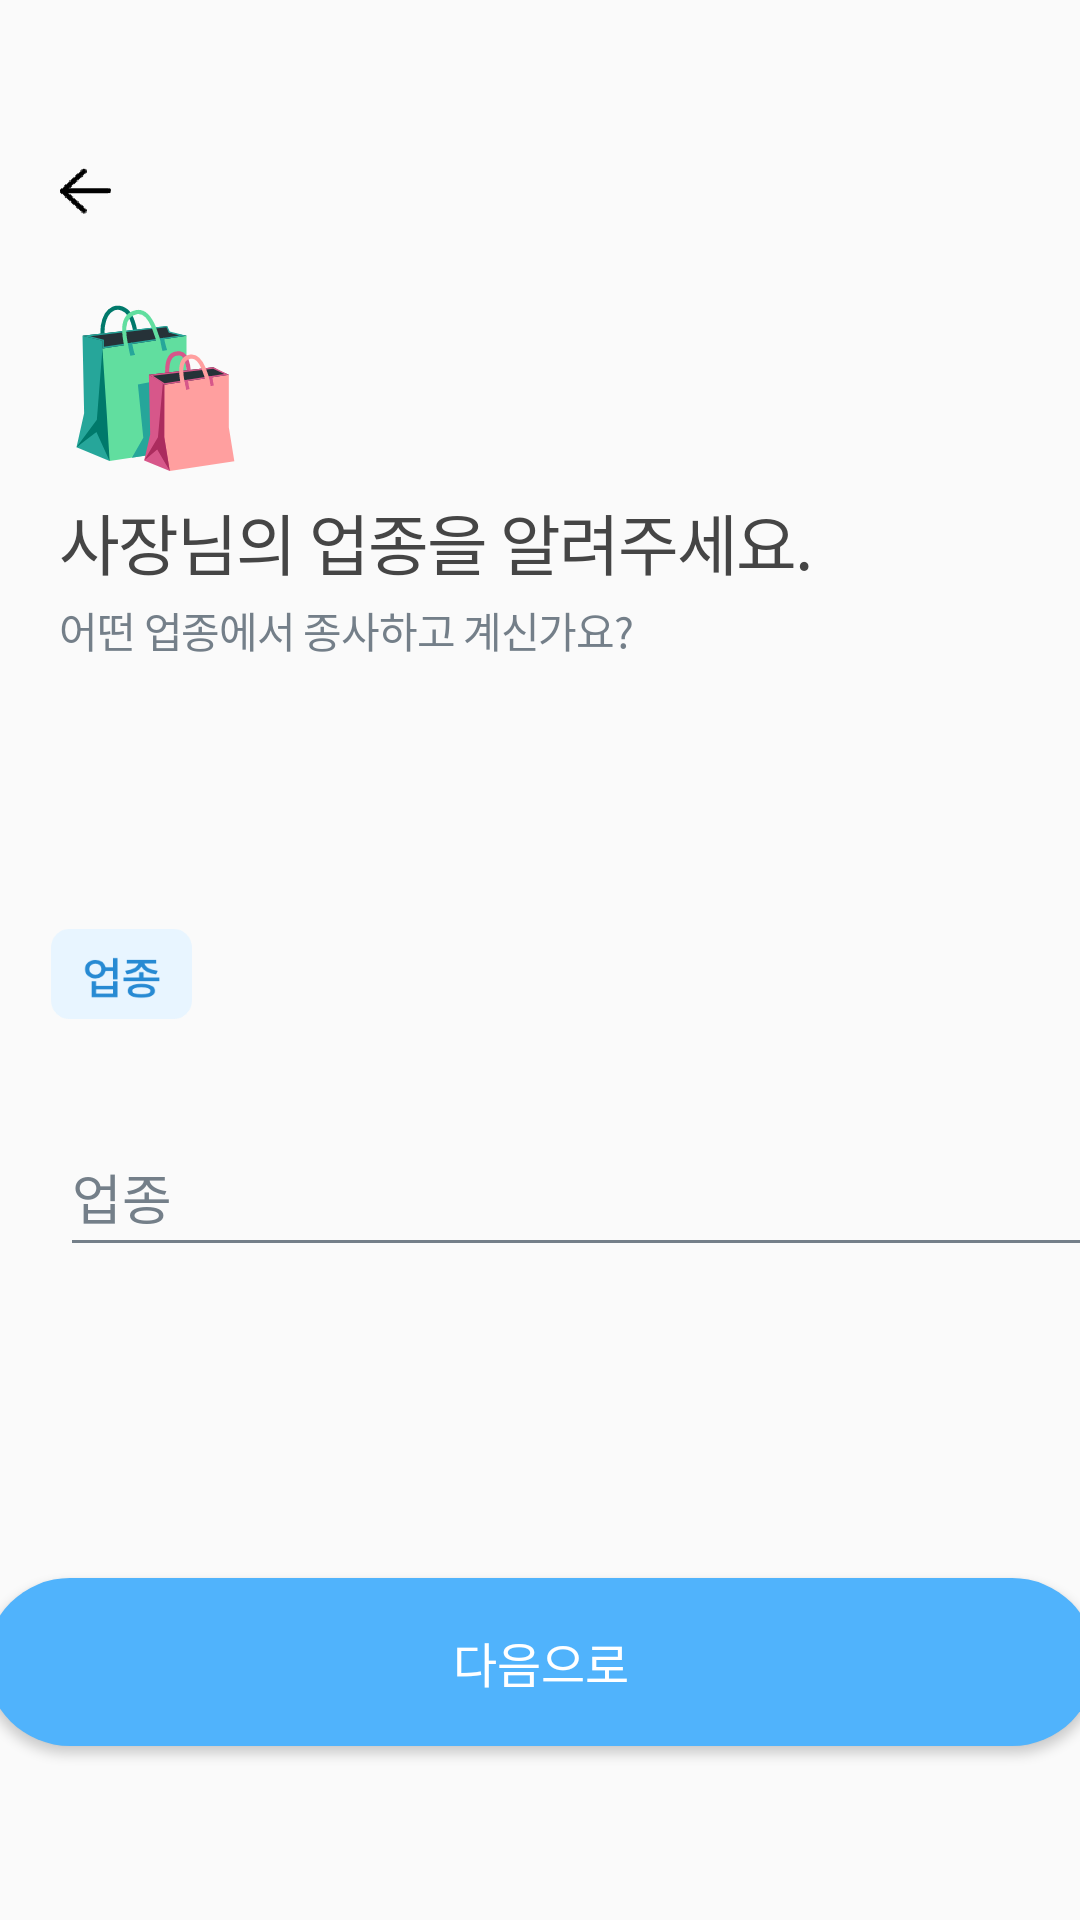

Screen size 1080*1920. Icon name, then its center in pixels as [x,y]:
before: [85,191]
